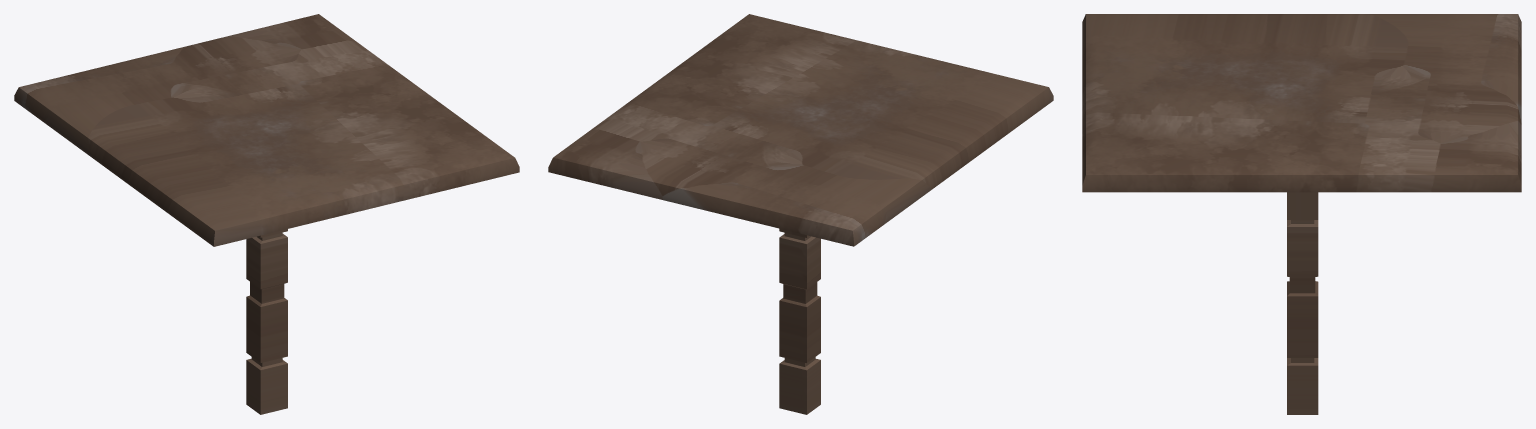
File: shelf.fbx
The picture shows the model from 3 angles, left to right: view 1: azimuth 30°, elevation 25°; view 2: azimuth 150°, elevation 25°; view 3: azimuth 270°, elevation 25°; orthographic projection. The views are drawn at different scales.
Parts seen in each view (by area): view 1: Shelf (×2); view 2: Shelf (×2); view 3: Shelf (×2).
Boxes of the visible parts, x1,y1,x2,y2 form: Shelf (×2): [14, 14, 519, 414]; Shelf (×2): [548, 14, 1053, 414]; Shelf (×2): [1082, 14, 1521, 414].
Size of the model in its own units: 80.78 by 72.5 by 91.37.
Materials: 1 (1 with a texture image).
